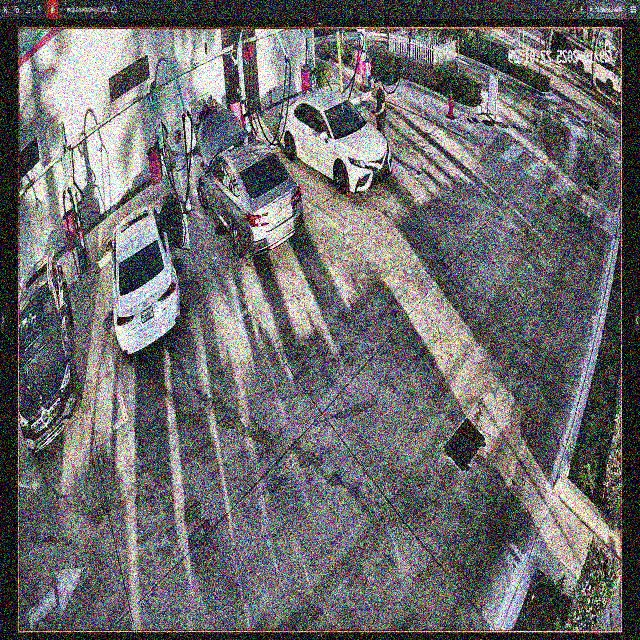Car: (197, 117, 305, 256), (276, 88, 392, 190), (112, 194, 182, 357)
